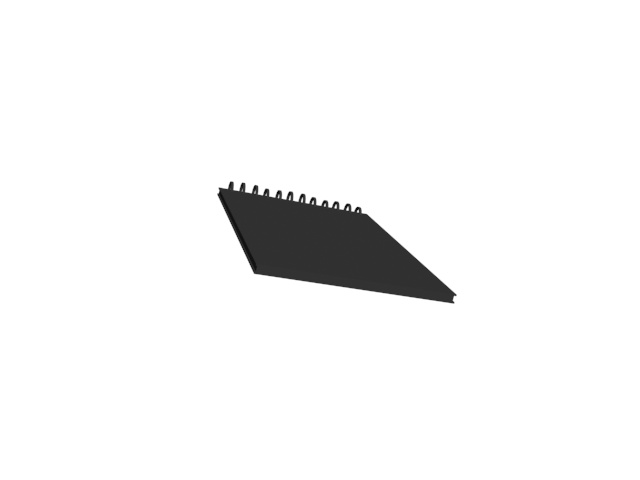paper_notebook: (217, 177, 464, 304)
